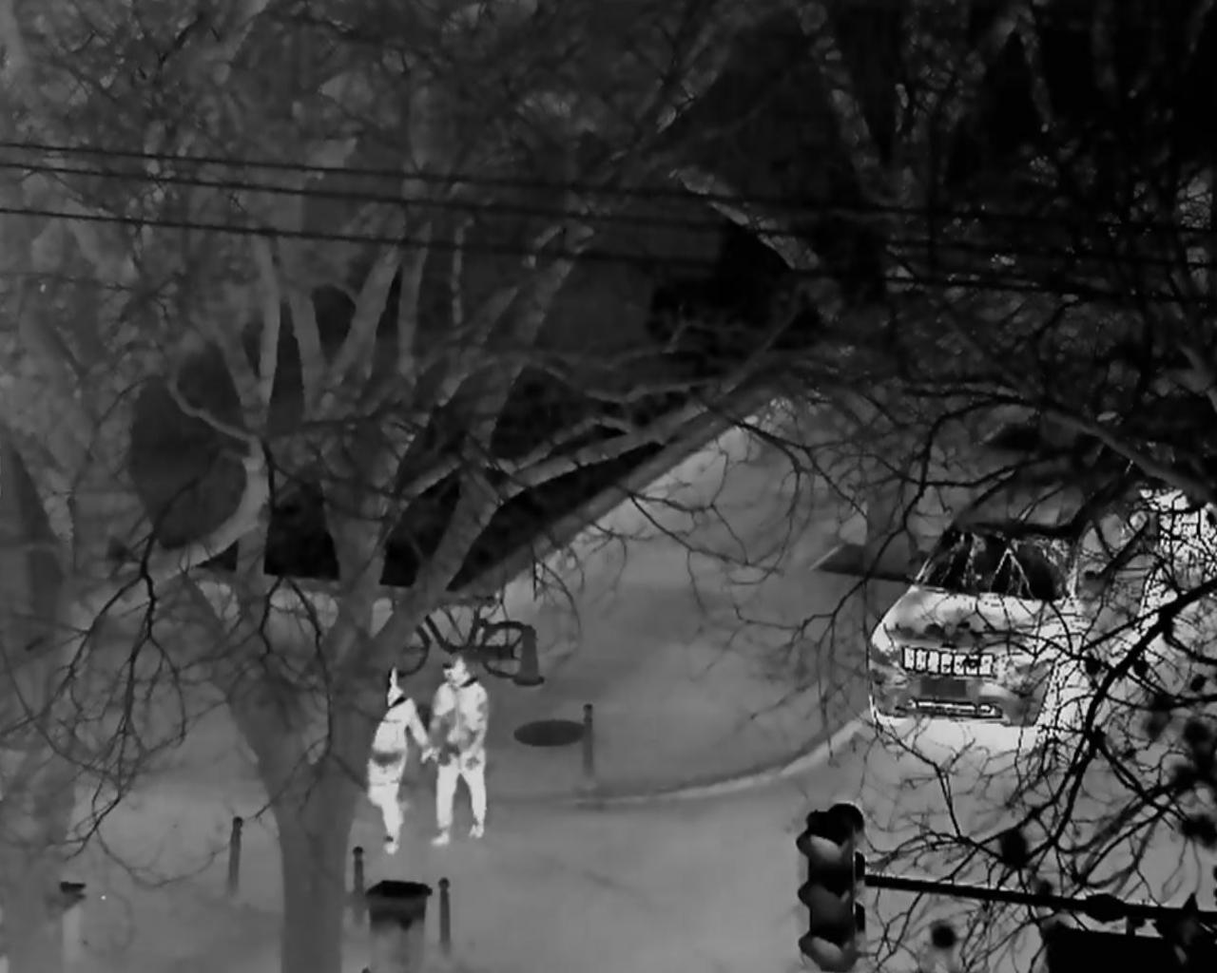person: (425, 653, 491, 846), (366, 664, 427, 855)
